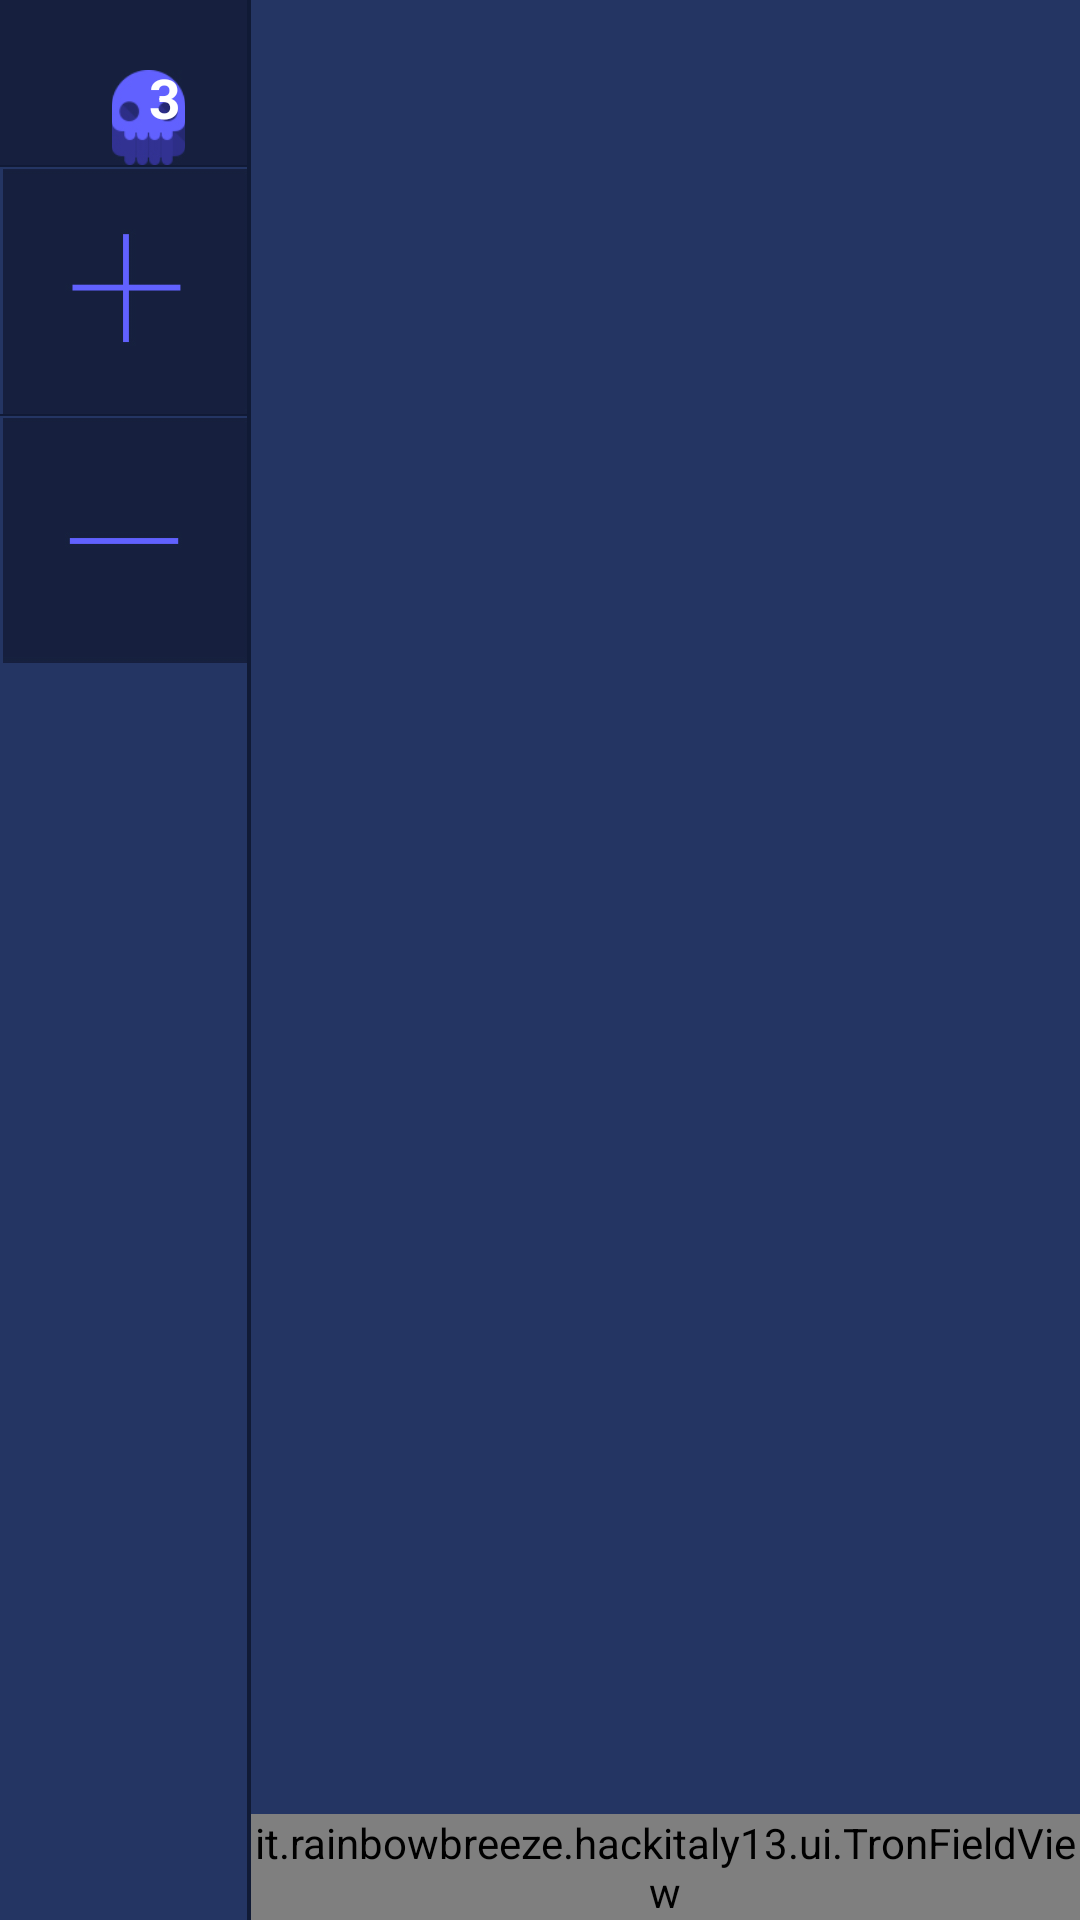

Icon bounding boxes for this 1080w x 1920h phone screenshot, format bbox(x1, y1, x2, y2):
teschio: bbox(112, 70, 185, 165)
